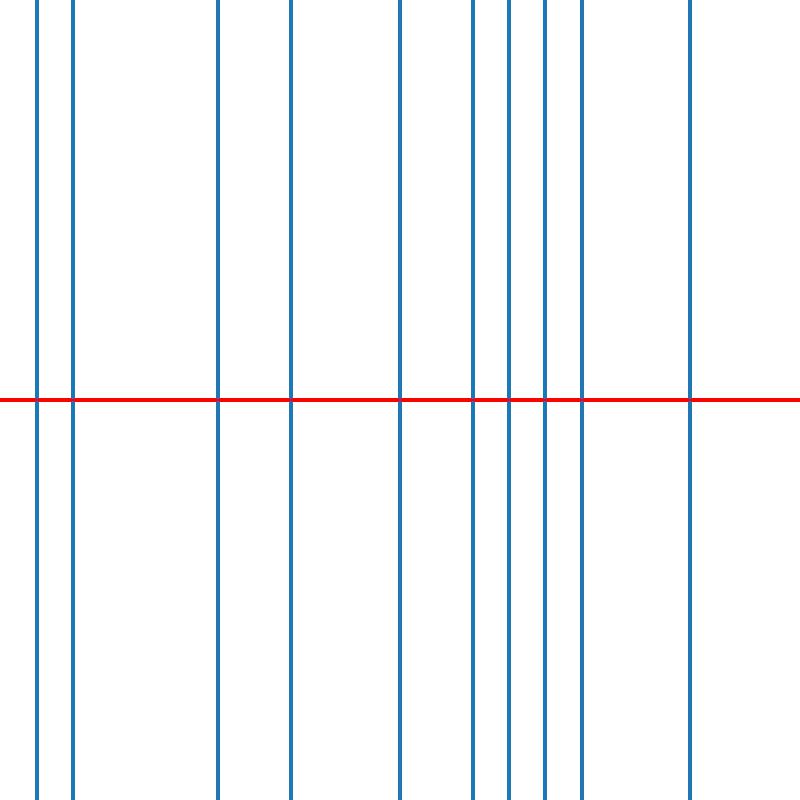root: (32, 396, 40, 404), (541, 396, 549, 404), (69, 396, 76, 404), (505, 396, 512, 404), (214, 396, 221, 404), (287, 396, 294, 404), (396, 396, 403, 404), (469, 396, 476, 404), (578, 396, 585, 404), (687, 396, 694, 404)
